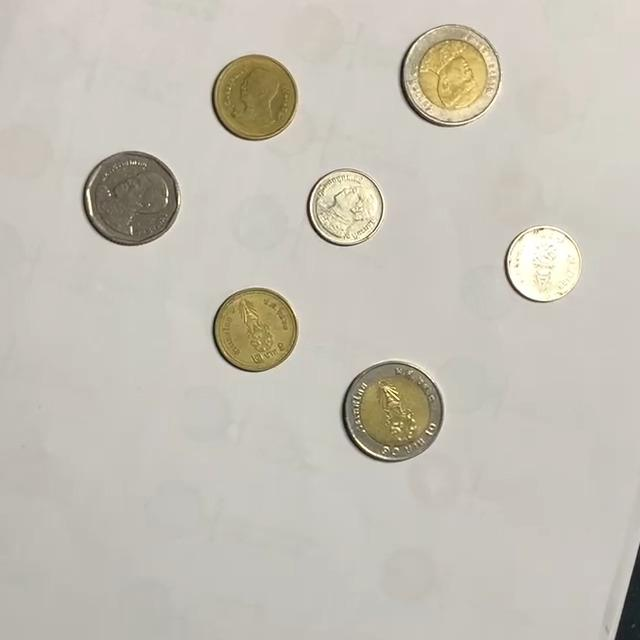1-baht: (504, 224, 585, 303), (308, 168, 387, 247)
10-baht: (401, 26, 503, 127), (344, 362, 446, 462)
2-baht: (212, 54, 299, 141), (213, 288, 299, 372)
5-baht: (83, 150, 183, 246)
